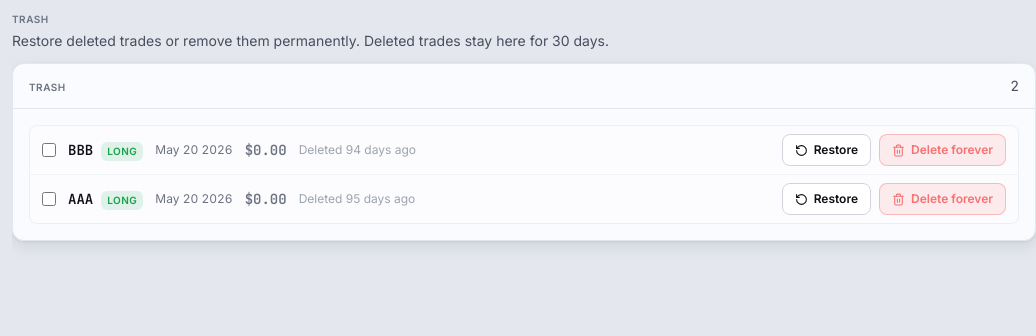
TrashSection — bulk actions › bulk-restores the selection atomically and clears it
Expected: the text "AAA" is shown, top-left (68, 188), bottom-right (93, 208)
Click the checkbox named "Select BBB May 20 2026" at [49, 150], box top-left (42, 143), bottom-right (56, 157)
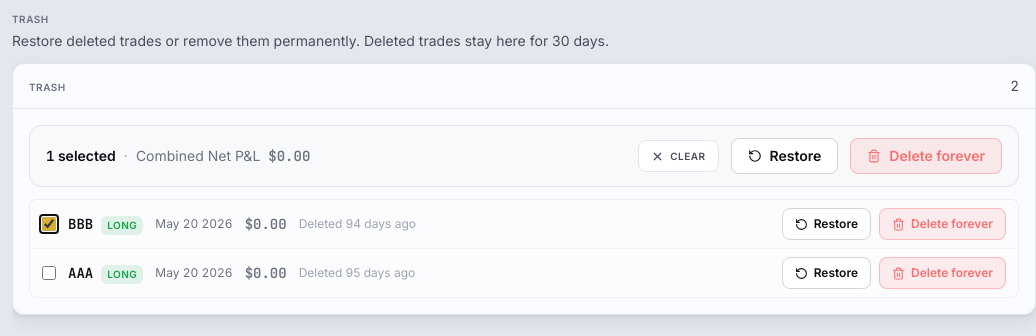
Click the checkbox named "Select AAA May 20 2026" at [49, 273], box top-left (42, 266), bottom-right (56, 280)
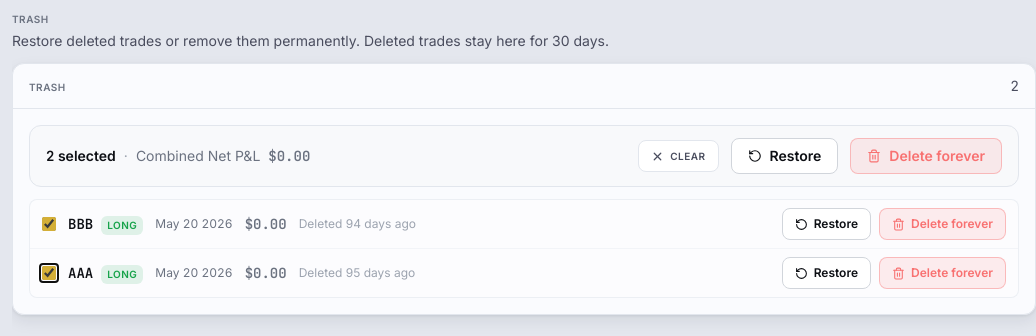
Click the button with aria-label "Restore selected" at [784, 156], box top-left (731, 138), bottom-right (838, 174)
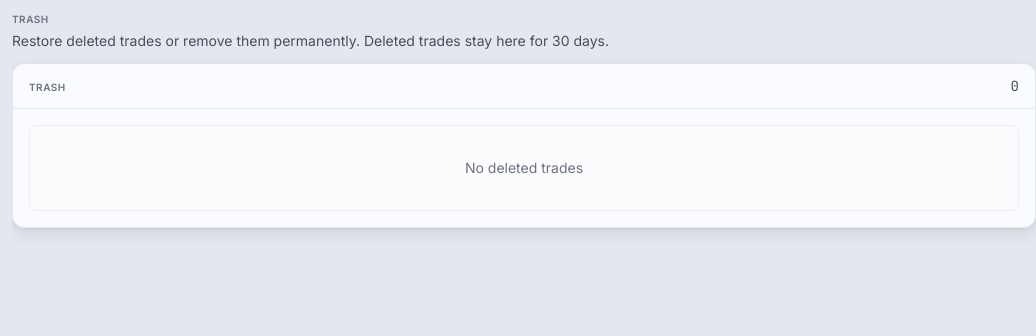
Expected: the text "No deleted trades" is shown, top-left (29, 125), bottom-right (1019, 211)
Expected: the text "Combined Net P&L" is gone
